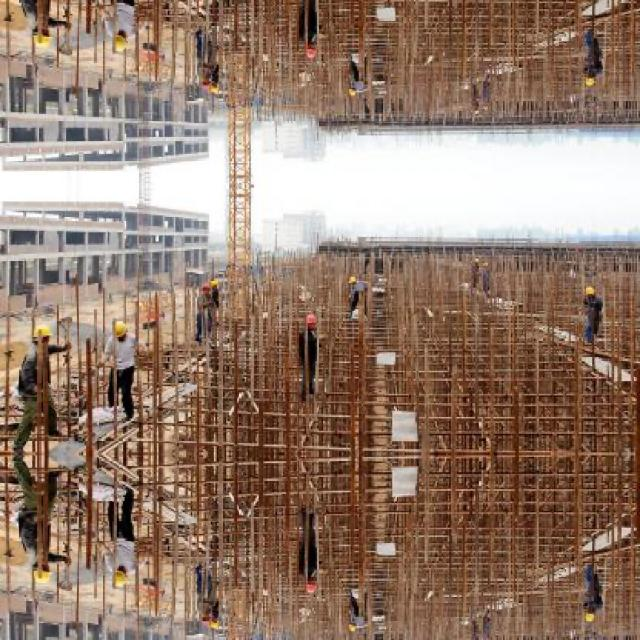2: (5, 325, 69, 452), (5, 454, 69, 581), (100, 322, 146, 420), (100, 485, 146, 583), (3, 0, 69, 46), (99, 0, 146, 49), (299, 311, 323, 397), (299, 508, 323, 594), (297, 0, 323, 60), (582, 26, 606, 85), (582, 285, 606, 343), (582, 562, 606, 620), (194, 29, 212, 88), (194, 282, 212, 340), (194, 565, 212, 623), (348, 272, 368, 316), (348, 54, 368, 97), (348, 590, 368, 632), (211, 578, 223, 630), (211, 277, 223, 328), (211, 43, 223, 94), (483, 258, 492, 296), (471, 257, 482, 288), (471, 81, 482, 112), (483, 74, 492, 111), (482, 610, 492, 638), (471, 617, 483, 638)
helmet: (31, 26, 54, 48), (31, 322, 54, 343), (31, 562, 54, 583), (112, 317, 131, 340), (112, 31, 131, 54), (112, 566, 131, 589), (305, 44, 320, 59), (305, 312, 320, 326), (305, 580, 320, 594), (584, 609, 596, 622), (584, 283, 596, 295), (584, 74, 596, 86), (348, 86, 360, 97), (348, 274, 360, 284), (348, 622, 360, 632), (203, 78, 212, 88), (211, 618, 220, 628), (211, 277, 220, 286), (203, 614, 212, 623), (211, 83, 220, 92), (203, 282, 212, 290), (476, 254, 482, 263), (476, 106, 482, 115), (484, 260, 490, 268), (484, 103, 490, 111), (483, 637, 491, 638)
